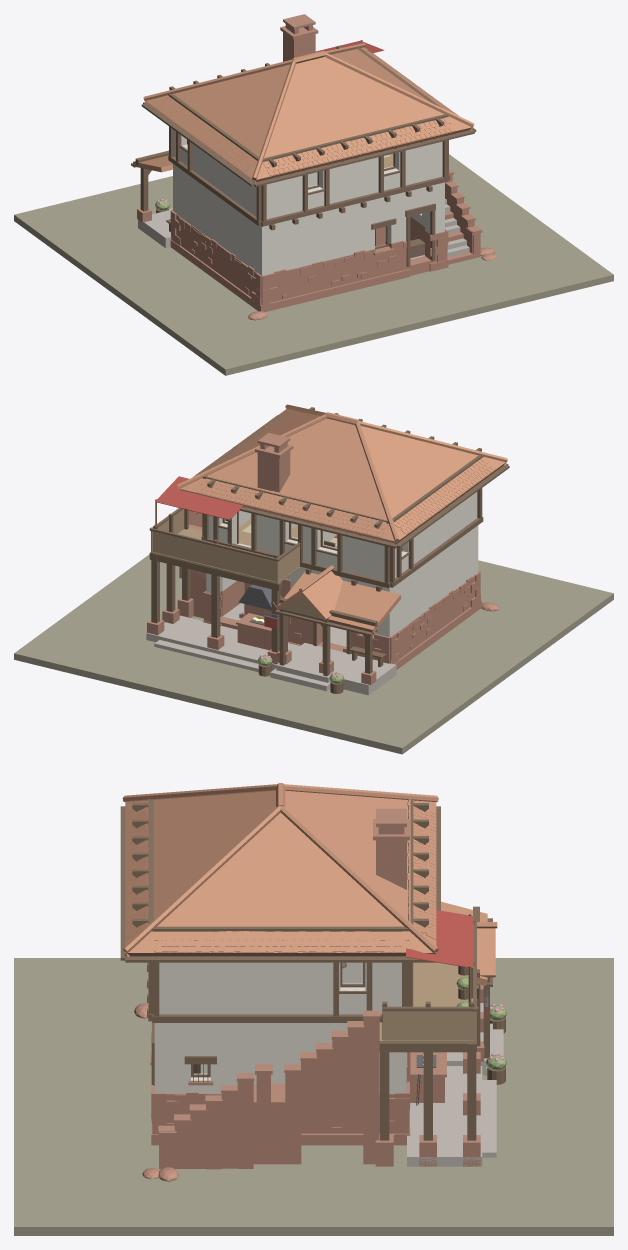
Rendered from tavern-4-corner.glb.
3 renders of one model, top to bottom at view 1: azimuth 30°, elevation 25°; view 2: azimuth 150°, elevation 25°; view 3: azimuth 270°, elevation 25°, orthographic. The views are drawn at different scales.
Visible parts, largest first — view 1: zemlya__m00, krysha__m03, obolochka__m01, obolochka__m00, obolochka__m02, krysha__m02, obolochka__m11, krysha__m00; view 2: zemlya__m00, krysha__m03, obolochka__m02, obolochka__m01, obolochka__m00, obolochka__m11, obolochka__m09, obolochka__m03, krysha__m00, obolochka__m05, krysha__m02, mebel__m00 (+3 smaller); view 3: zemlya__m00, krysha__m03, obolochka__m00, obolochka__m01, obolochka__m02, obolochka__m11, obolochka__m09, krysha__m02, krysha__m00, obolochka__m05, obolochka__m03, mebel__m00 (+2 smaller).
Boxes of the visible parts, x1,y1,x2,y2 form: zemlya__m00: (14,154,613,375); krysha__m03: (143,43,474,182); obolochka__m01: (173,130,444,275); obolochka__m00: (137,169,482,311); obolochka__m02: (131,40,449,266); krysha__m02: (141,102,476,186); obolochka__m11: (138,199,469,257); krysha__m00: (280,14,318,61); zemlya__m00: (14,554,613,754); krysha__m03: (177,404,507,544); obolochka__m02: (149,407,483,676); obolochka__m01: (206,492,478,637); obolochka__m00: (147,510,481,684); obolochka__m11: (146,570,396,695); obolochka__m09: (150,509,322,619); obolochka__m03: (276,565,401,632); krysha__m00: (255,433,293,492); obolochka__m05: (155,476,278,629); krysha__m02: (239,463,509,548); mebel__m00: (236,579,291,650); zemlya__m00: (14,958,613,1235); krysha__m03: (122,783,438,956); obolochka__m00: (150,985,484,1169); obolochka__m01: (154,962,406,1093); obolochka__m02: (132,799,492,1140); obolochka__m11: (407,1003,503,1166); obolochka__m09: (379,962,476,1043); krysha__m02: (120,806,440,962); krysha__m00: (373,808,409,889); obolochka__m05: (406,910,487,1020); obolochka__m03: (441,901,497,985); mebel__m00: (407,1052,446,1102).
Size of the model in its own units: 17.9 by 9.19 by 16.88.
